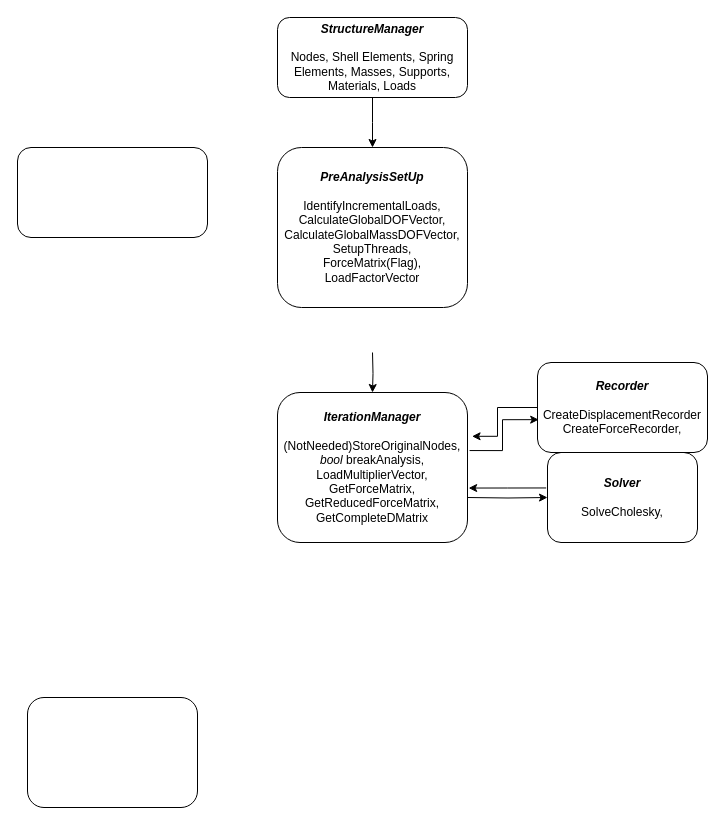
Image size: 725x825. Some labels were removed from this diagram. Each missing label, with the box of its shape:
AnalysisManager AnalysisType, nLoadSteps, nIterations, breakAnalysis: (16, 146, 208, 238)
template Recorder virtual Add(), virtual Get(), private: map<int, vector<T>>: (26, 696, 198, 808)
